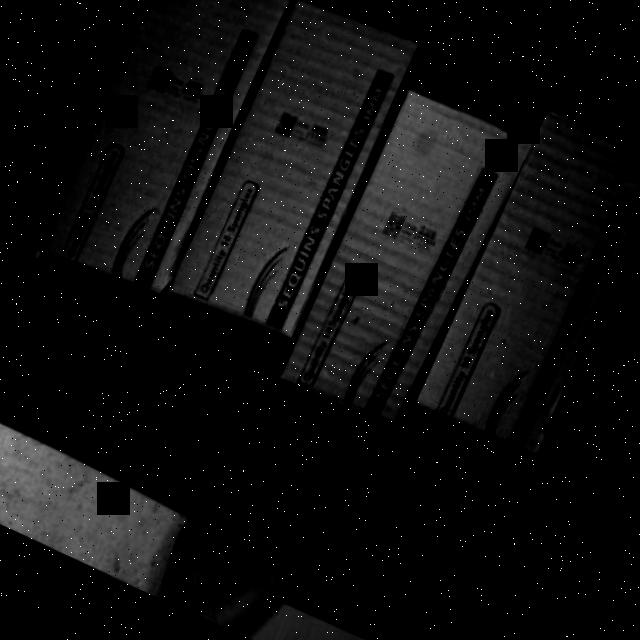box: (168, 0, 430, 345), (281, 92, 523, 426), (413, 114, 640, 462), (41, 0, 298, 289)
